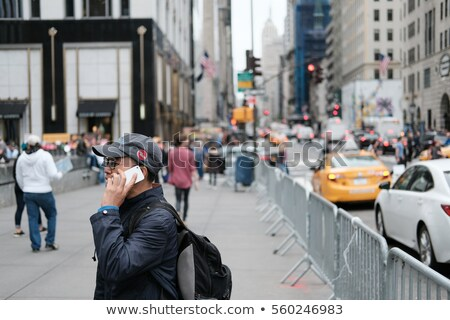phone: (109, 159, 150, 193)
talk: (100, 149, 155, 204)
